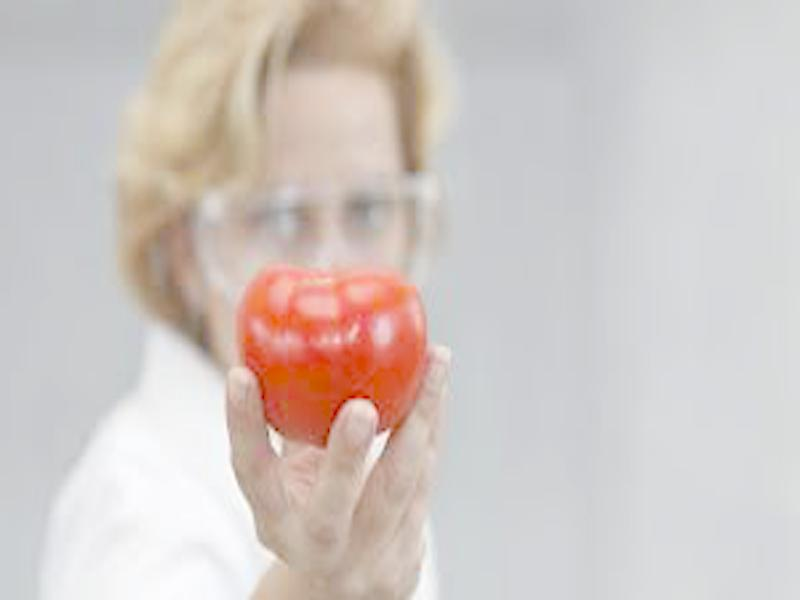Tomato: (231, 268, 426, 443)
